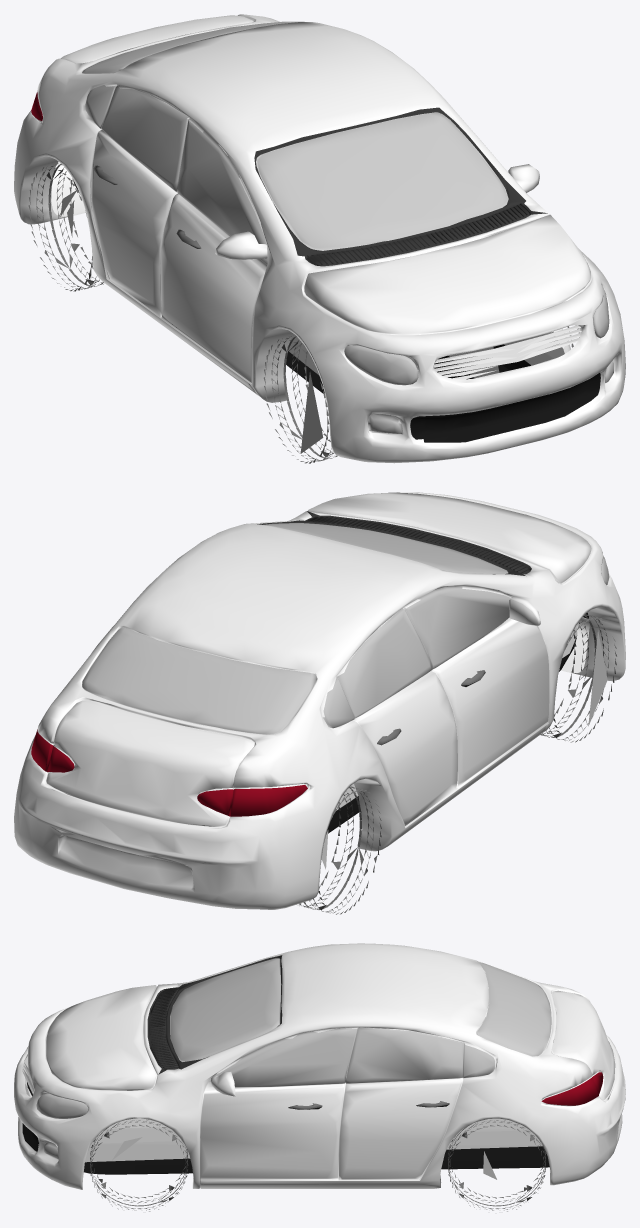
File: coche43.glb
3 renders of one model, top to bottom at view 1: azimuth 30°, elevation 25°; view 2: azimuth 150°, elevation 25°; view 3: azimuth 270°, elevation 25°, orthographic. The views are drawn at different scales.
Visible parts, largest first — view 1: coche43; view 2: coche43; view 3: coche43.
Boxes of the visible parts, x1,y1,x2,y2 form: coche43: [14, 14, 625, 463]; coche43: [14, 492, 625, 914]; coche43: [14, 943, 625, 1211].
Bounding box in the file's own units: 1.97 × 1.42 × 4.26.
